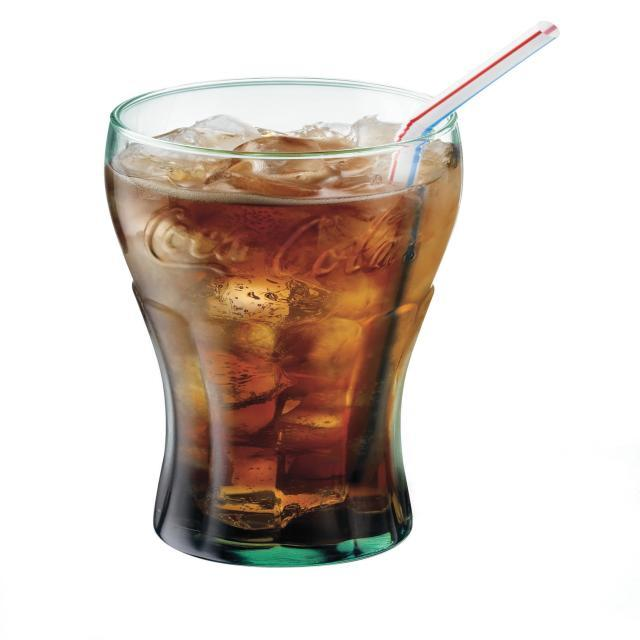Coke: (100, 77, 476, 579)
